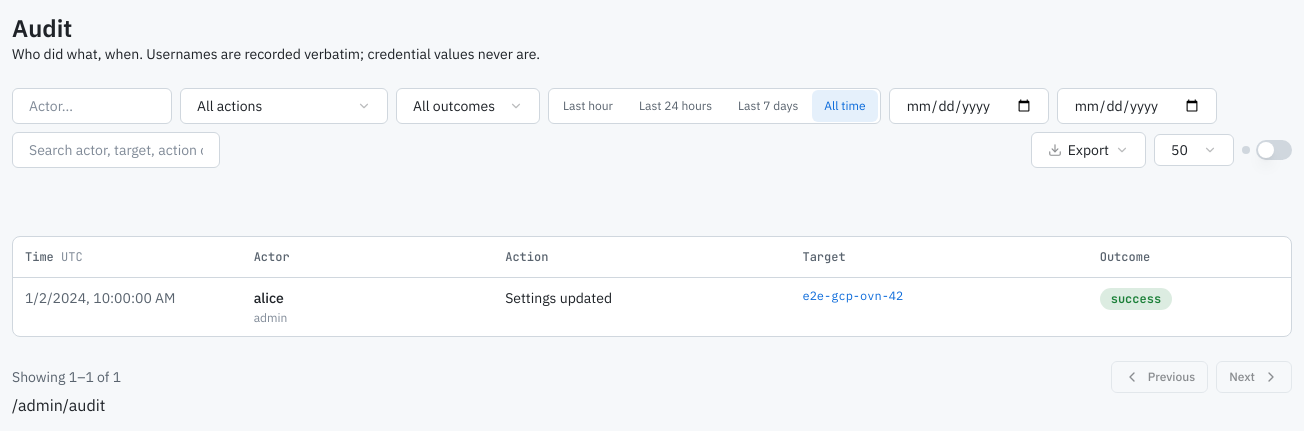
Test: AdminAuditPage › links a job target under its label and keeps the raw id in the tooltip
Hover over the link "e2e-gcp-ovn-42" at (853, 295), box [802,288,903,302]
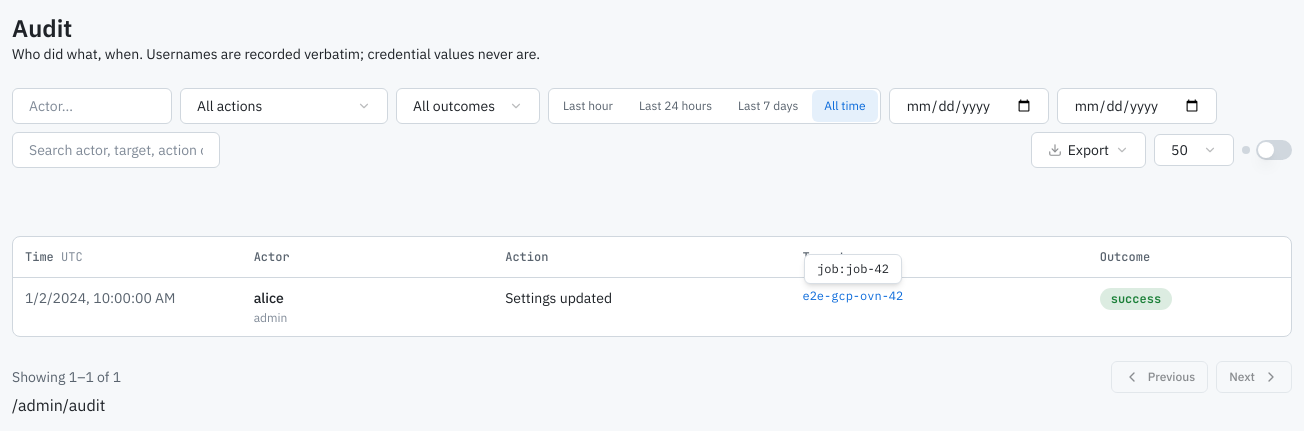
Check: the tooltip reads "job:job-42", box [817,261,889,276]
